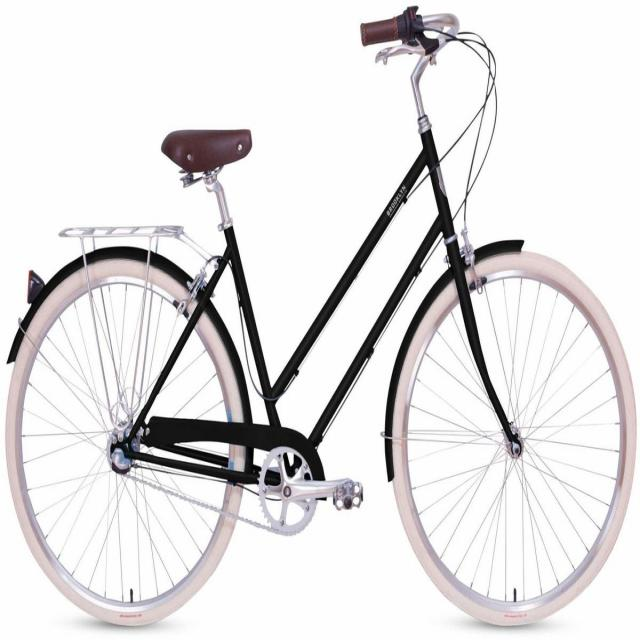bicycle: (5, 9, 640, 640)
